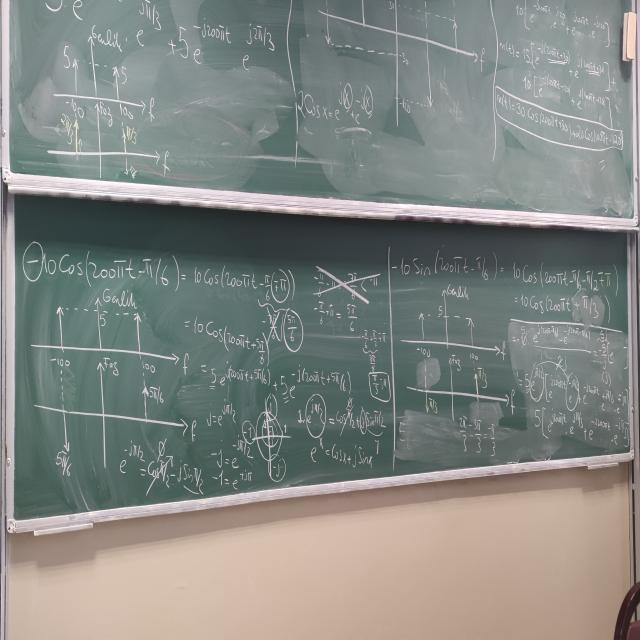image: (27, 286, 203, 453), (401, 282, 519, 435), (242, 393, 294, 485)
math: (16, 231, 307, 307), (512, 319, 629, 454), (295, 400, 391, 478), (505, 261, 620, 323), (196, 358, 357, 401), (189, 302, 278, 376), (390, 242, 503, 294), (357, 327, 392, 404), (283, 312, 307, 354)
